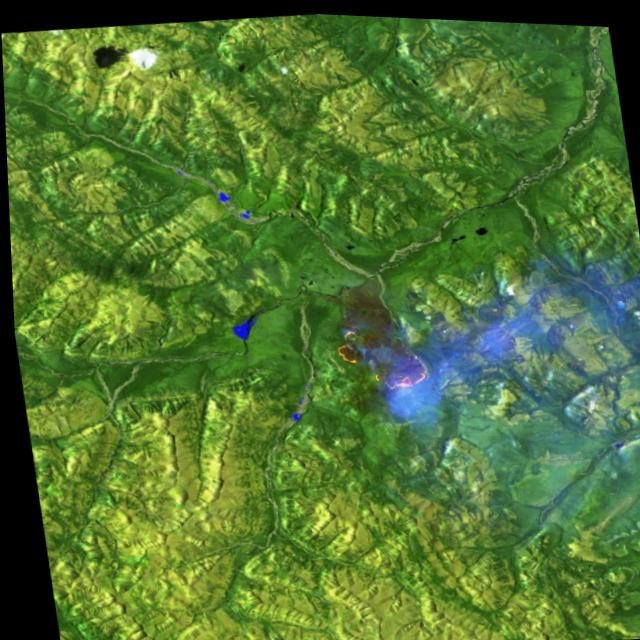fire: (325, 314, 434, 395)
